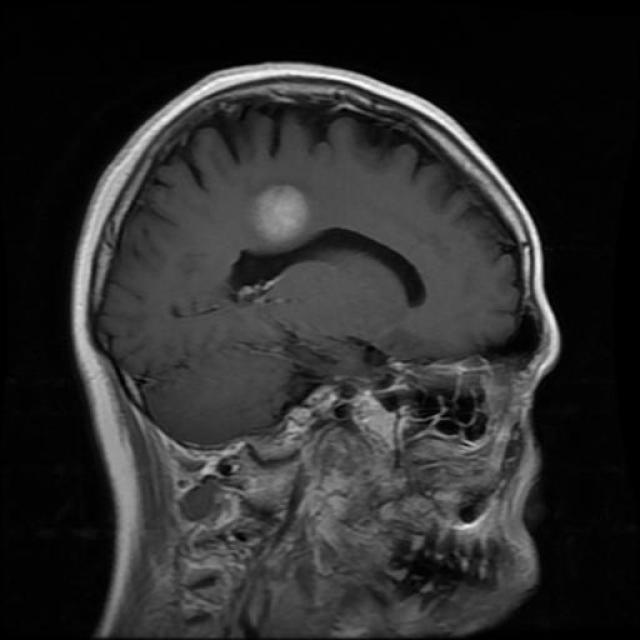meningioma: (252, 186, 309, 244)
